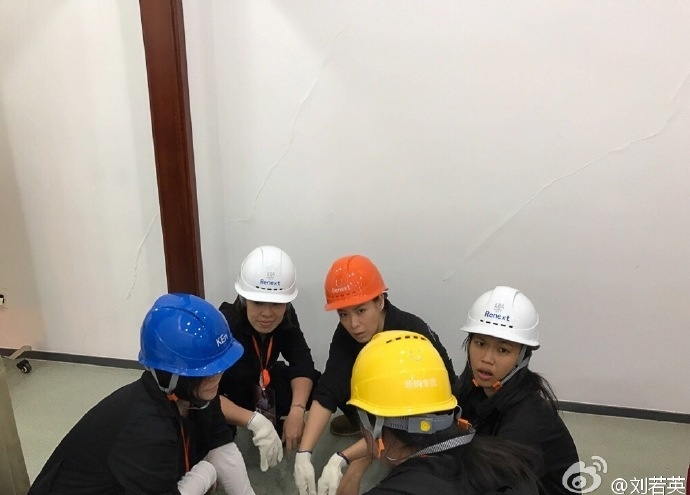blue: (137, 289, 228, 407)
red: (321, 254, 390, 343)
white: (455, 279, 547, 390), (225, 242, 307, 336)
yellow: (340, 326, 461, 458)
